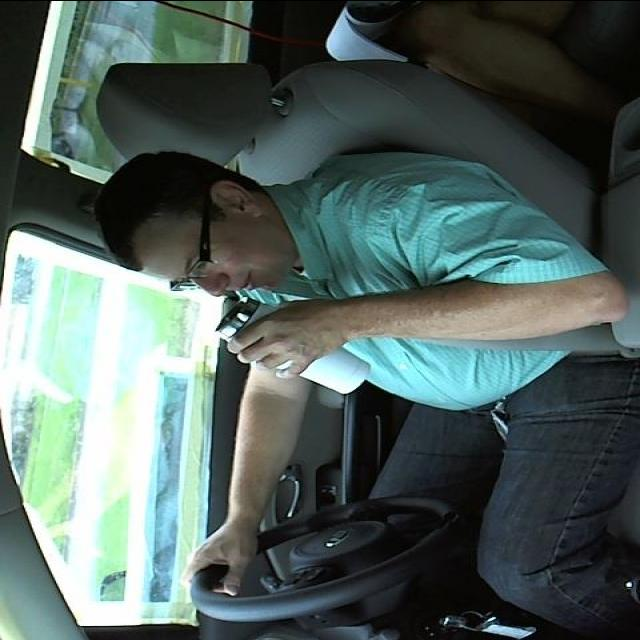drinking: (208, 298, 372, 396)
